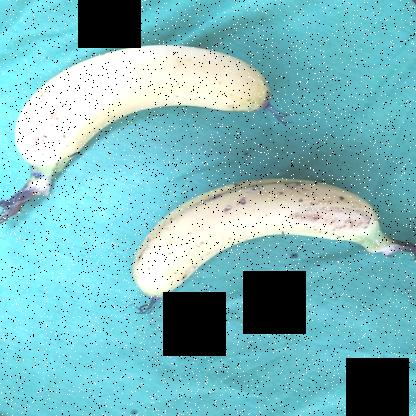freshripe: (13, 42, 281, 178)
ripe: (122, 174, 387, 304)
